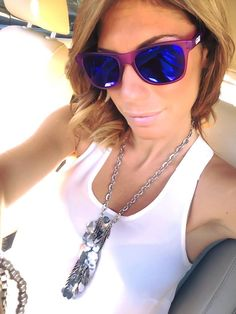sunglasses: (79, 54, 180, 80)
